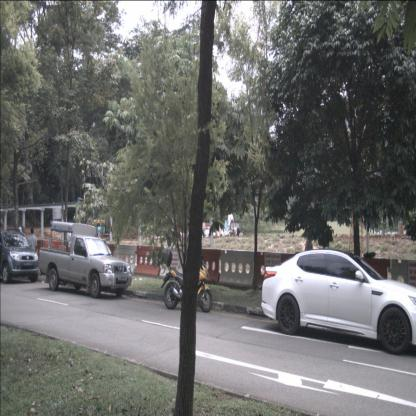human-pedestrian-adult: (28, 228, 38, 275)
movable_object-barrier: (256, 252, 295, 290), (219, 250, 255, 288), (159, 246, 188, 280), (134, 245, 162, 277), (388, 258, 415, 288), (201, 249, 221, 284), (113, 245, 138, 273), (360, 257, 390, 279), (43, 239, 64, 250), (35, 240, 43, 257)
movable_object-trafficcone: (65, 241, 69, 255)
vehicle-car: (261, 249, 416, 356), (0, 228, 39, 285)
vehicle-motorcycle: (160, 247, 213, 313)
vehicle-truck: (36, 222, 132, 298)
